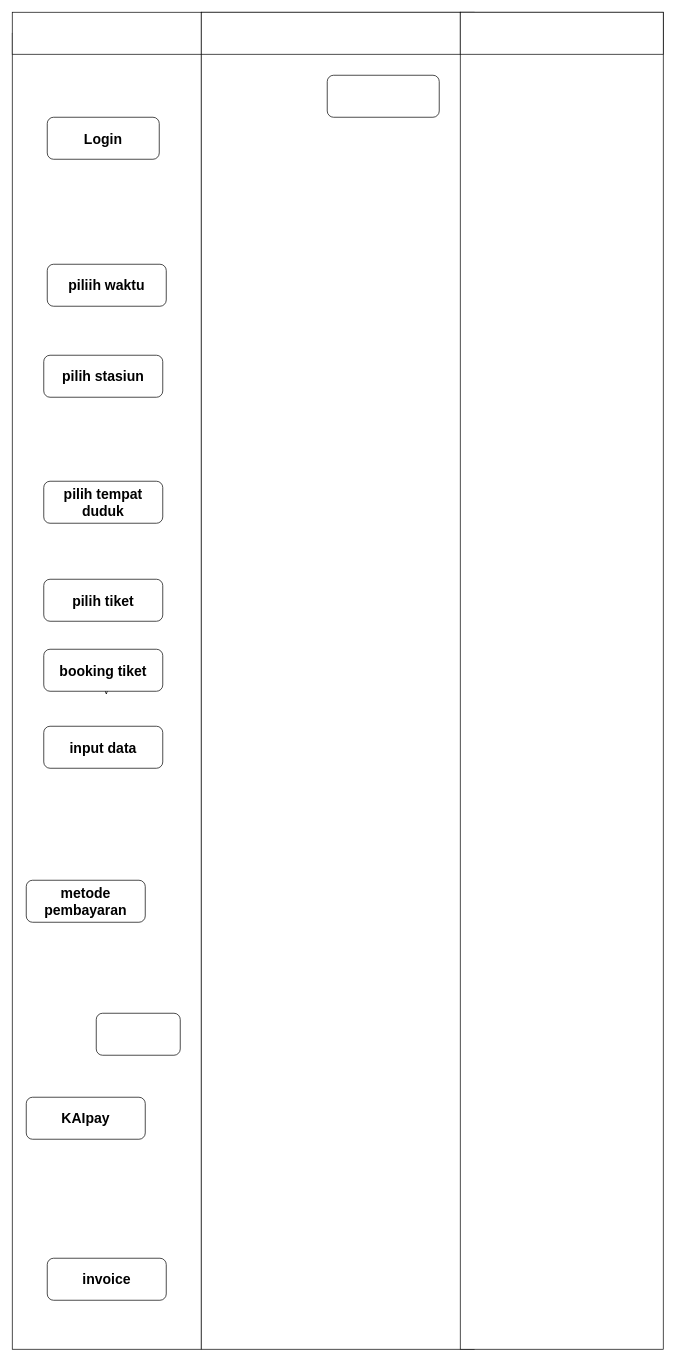
The diagram is 676 pixels wide and 1362 high, and some of its shapes have lost their labels. The shapes that lost their labels are listed below. From the top down, each one's centre as x and y in pixels, then its label:
At point (106, 33): "penumpang".
At point (330, 33): "sistem".
At point (561, 33): "admin".
At point (383, 96): "verifikasi password".
At point (138, 1034): "transfer".
